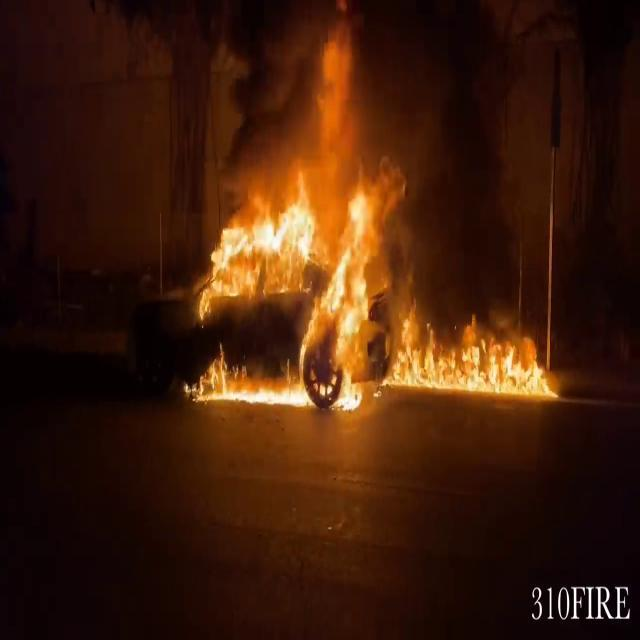Fire: (183, 88, 549, 416)
